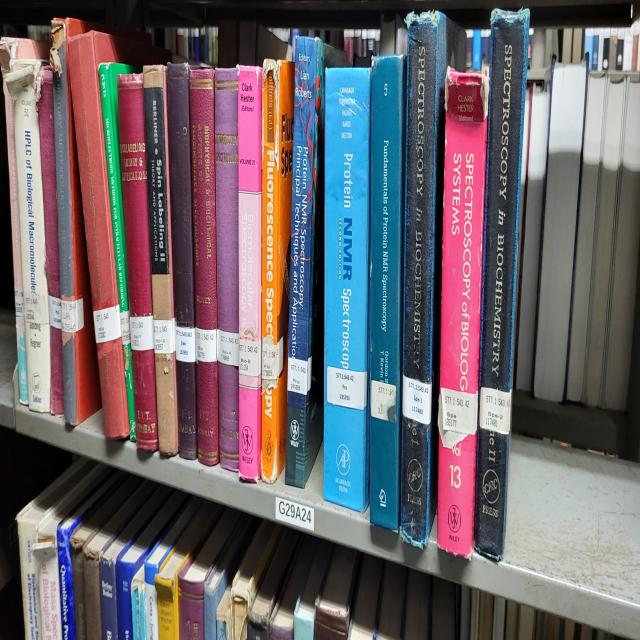Book: (69, 32, 162, 438), (400, 11, 465, 547), (474, 11, 530, 560), (285, 38, 349, 487), (438, 68, 489, 557), (324, 68, 371, 511), (50, 19, 101, 425), (0, 38, 49, 403), (370, 54, 405, 530), (6, 60, 50, 411), (118, 73, 158, 452), (261, 60, 295, 482), (99, 62, 136, 441), (144, 65, 178, 455), (166, 62, 198, 460), (189, 68, 219, 465), (214, 68, 239, 471), (238, 65, 262, 482), (38, 65, 64, 414)
Label: (441, 387, 478, 436), (328, 365, 368, 409), (479, 387, 511, 436), (402, 376, 431, 425), (371, 379, 398, 422), (261, 335, 284, 381), (94, 306, 121, 344), (130, 314, 154, 352), (288, 357, 311, 395), (216, 330, 239, 368), (239, 338, 261, 376), (195, 327, 218, 363), (24, 292, 49, 325), (61, 298, 84, 333), (175, 325, 196, 363), (154, 319, 176, 354), (49, 295, 61, 330), (120, 311, 130, 346), (14, 287, 24, 319)
